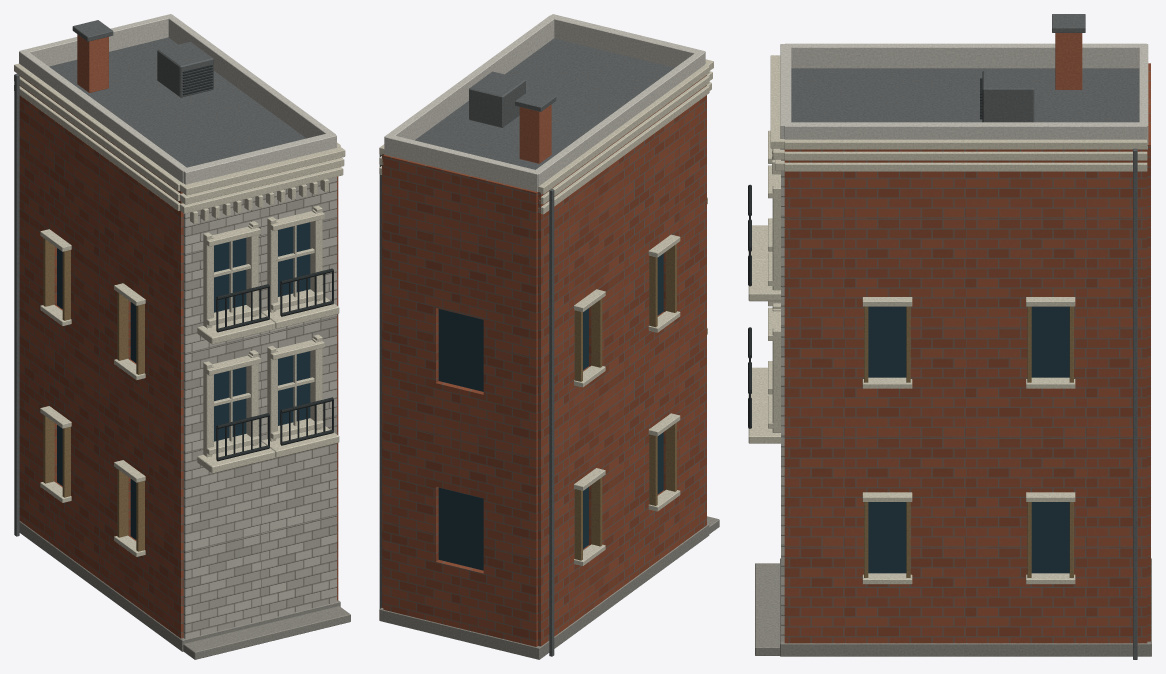
Rendered from RUNDWN16_lod1.glb.
3 views of the same model, side by side, from view 1: azimuth 30°, elevation 25°; view 2: azimuth 150°, elevation 25°; view 3: azimuth 270°, elevation 25° (orthographic). The views are drawn at different scales.
Visible parts, largest first — view 1: RUNDWN16_LOD1; view 2: RUNDWN16_LOD1; view 3: RUNDWN16_LOD1.
Boxes of the visible parts, bbox=[...] form: RUNDWN16_LOD1: bbox=[14, 14, 350, 659]; RUNDWN16_LOD1: bbox=[379, 14, 719, 659]; RUNDWN16_LOD1: bbox=[748, 14, 1151, 659].
Bounding box in the file's own units: 3.71 × 10.45 × 6.68.
Materials: 11 (9 with a texture image).
